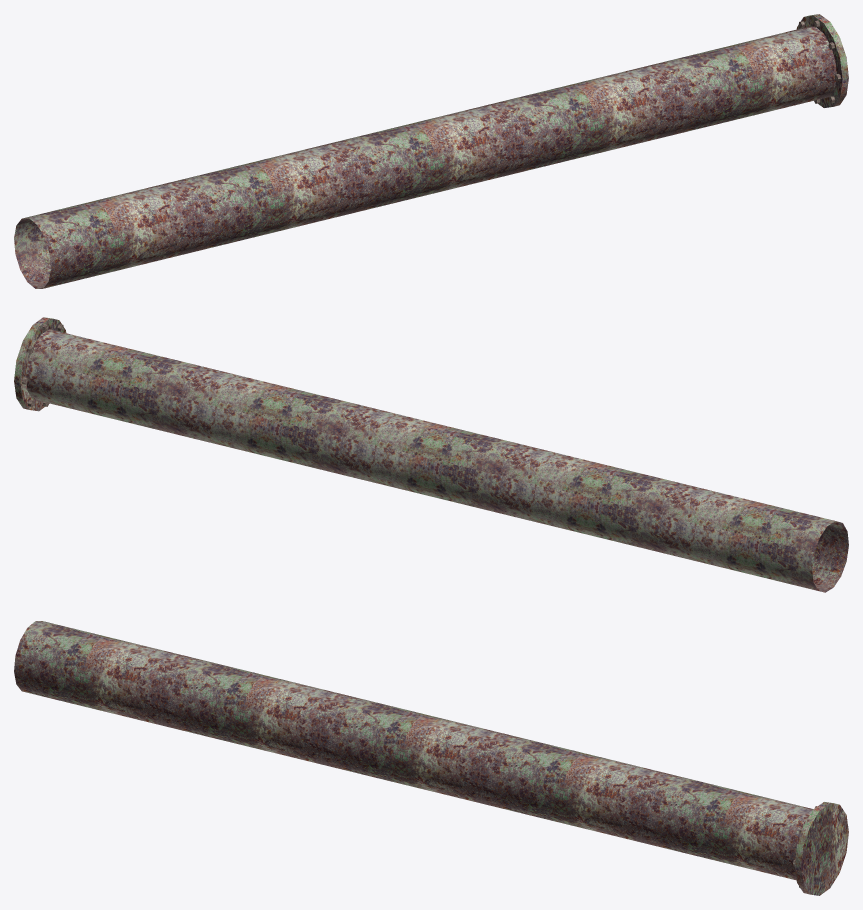
The model's file is pipe4.FBX.
3 views of the same model, one above another, from view 1: azimuth 30°, elevation 25°; view 2: azimuth 150°, elevation 25°; view 3: azimuth 330°, elevation 25° (orthographic).
Parts seen in each view (by area): view 1: pipe4; view 2: pipe4; view 3: pipe4.
Boxes of the visible parts, x1,y1,x2,y2 form: pipe4: [14, 14, 848, 288]; pipe4: [14, 317, 848, 592]; pipe4: [14, 621, 848, 895].
Bounding box in the file's own units: 2.48 × 0.2535 × 0.26.
1 material, 1 textured.
